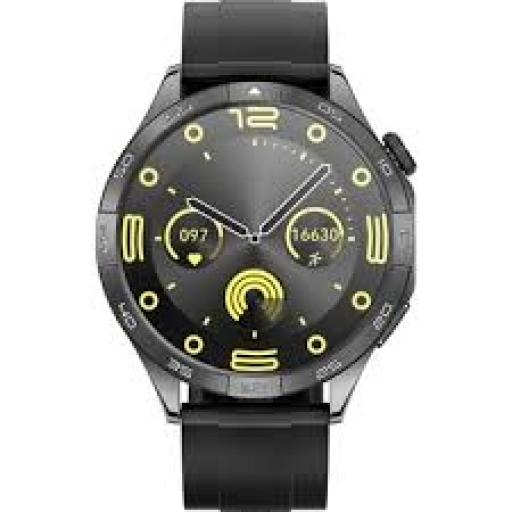KolSaati: (94, 8, 431, 512)
